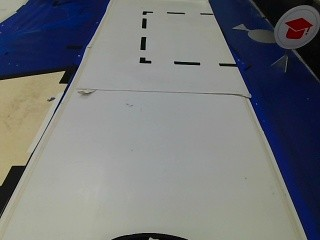school: (273, 6, 318, 51)
